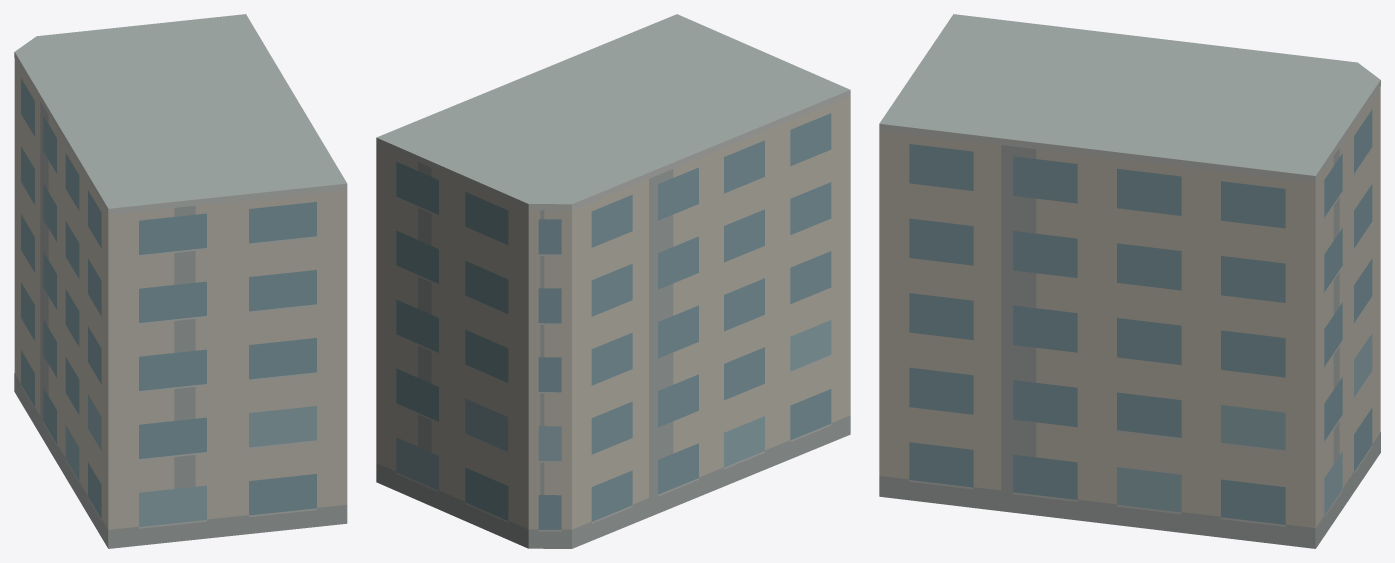
Rendered from survey-upis-33018986.glb.
The picture shows the model from 3 angles, left to right: view 1: azimuth 30°, elevation 25°; view 2: azimuth 150°, elevation 25°; view 3: azimuth 270°, elevation 25°; orthographic projection. The views are drawn at different scales.
Visible parts, largest first — view 1: survey-upis-33018986.tmp; view 2: survey-upis-33018986.tmp; view 3: survey-upis-33018986.tmp.
Part boxes in pixels (x1,y1,x2,y2): survey-upis-33018986.tmp: [14, 14, 347, 548]; survey-upis-33018986.tmp: [376, 14, 850, 548]; survey-upis-33018986.tmp: [879, 14, 1380, 548].
Size of the model in its own units: 12.64 by 13.55 by 16.53.
